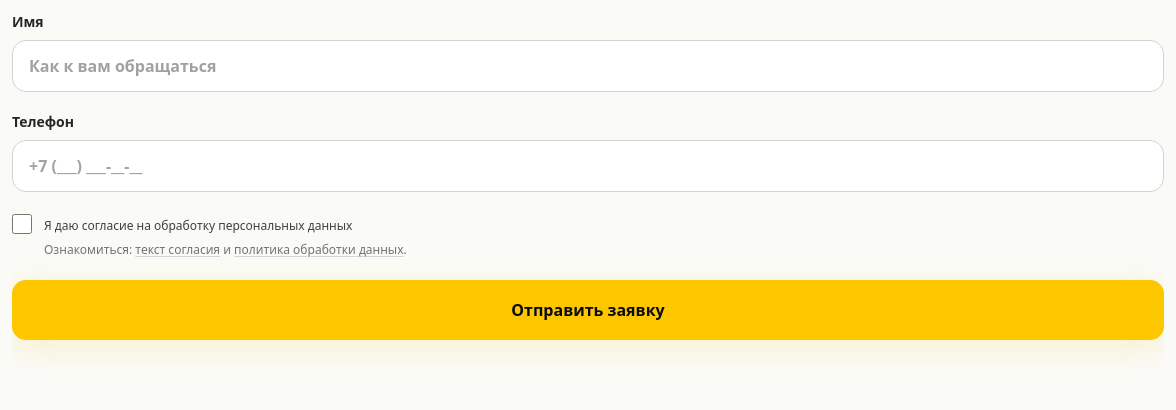
EnrollmentForm › keeps entered data and offers a phone fallback after a delivery error
Type "Илья" into the field labelled "Имя" at (588, 66), box 12,40 -> 1164,92
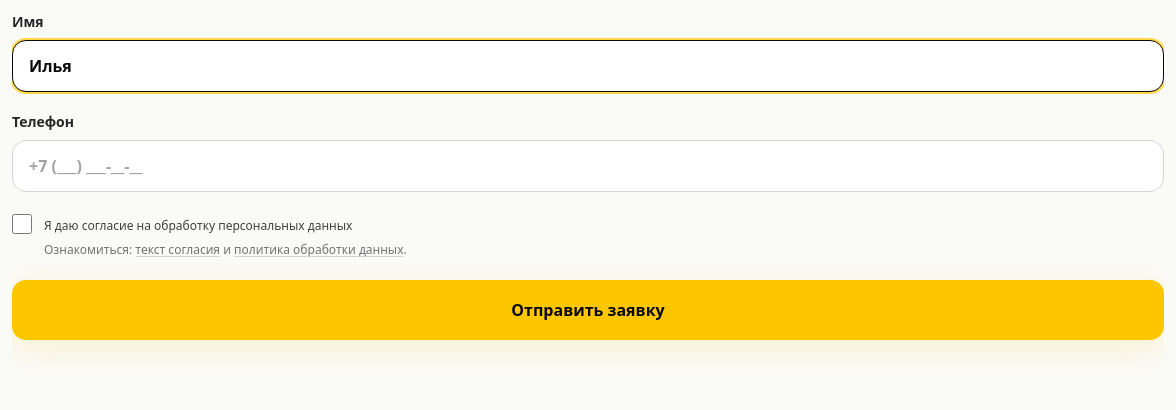
Type "+7 (999) 123-45-67" into the field labelled "Телефон" at (588, 166), box 12,140 -> 1164,192
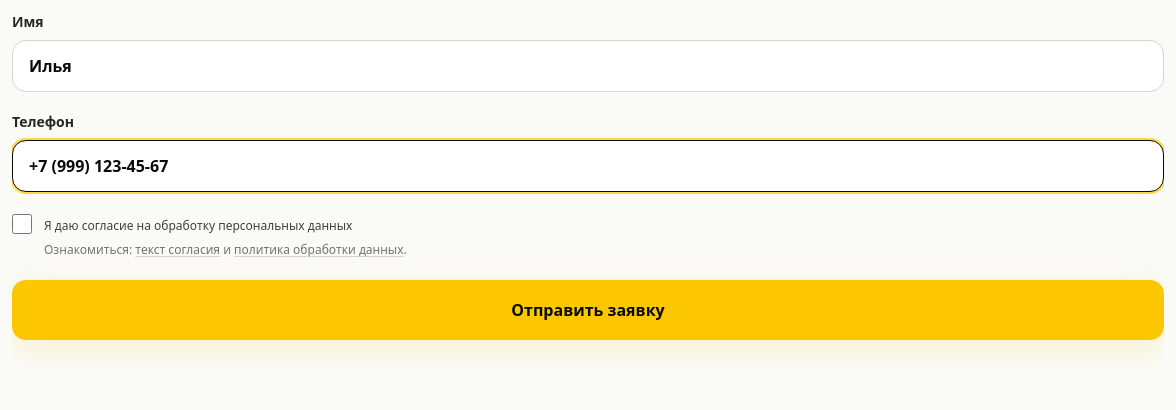
Click the checkbox at (22, 224), box 12,214 -> 32,234
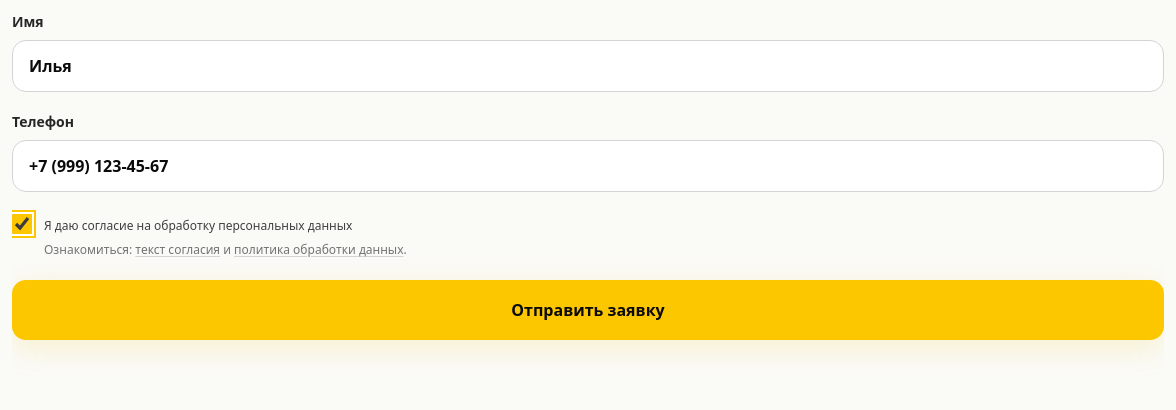
Click the button "Отправить заявку" at (588, 310), box 12,280 -> 1164,340
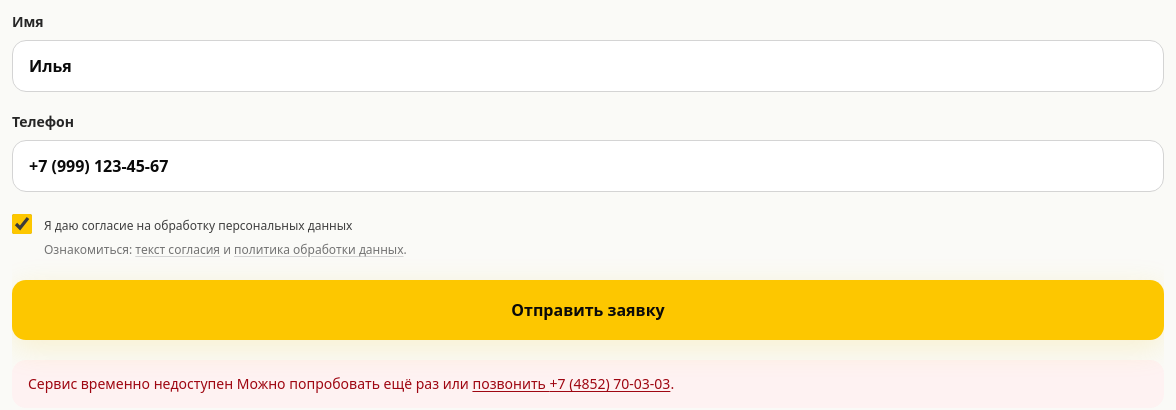
Expected: the message shows "Сервис временно недоступен", 28,374 -> 233,393
